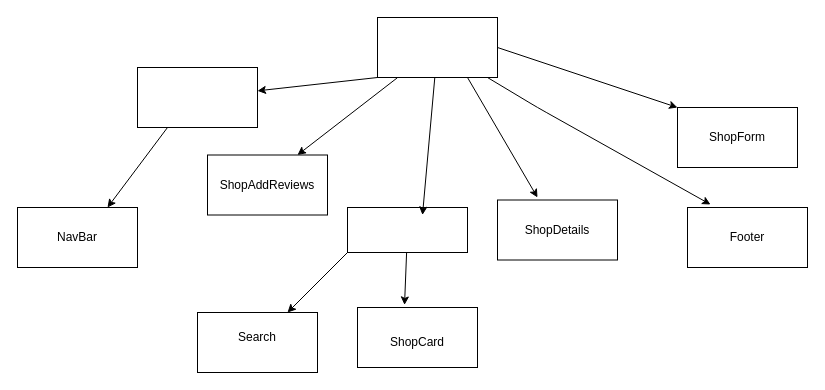
Some shapes in this 825 by 390 pixel diagram are drawn without their labels. The shapes that lost their labels are listed below. From the top down, each one's box as (x1, y1, x2, y2) in pixels, then its label:
(376, 16, 498, 78): App
(136, 66, 258, 128): Header
(346, 206, 468, 252): ShopPage
